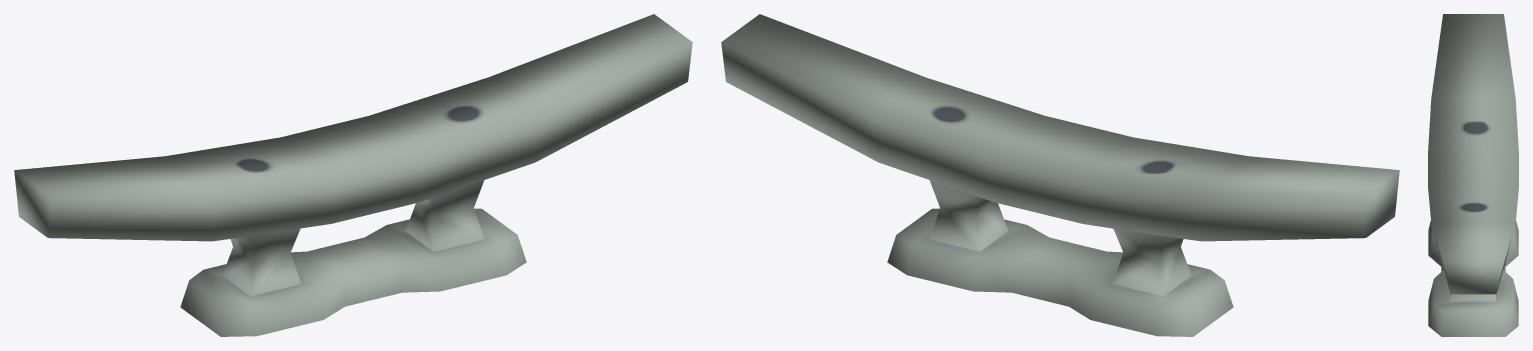
File: dockcleat.FBX
3 views of the same model, side by side, from view 1: azimuth 30°, elevation 25°; view 2: azimuth 150°, elevation 25°; view 3: azimuth 270°, elevation 25° (orthographic). The views are drawn at different scales.
Visible parts, largest first — view 1: cleat; view 2: cleat; view 3: cleat.
Boxes of the visible parts, x1,y1,x2,y2 form: cleat: [14, 14, 692, 336]; cleat: [721, 14, 1399, 336]; cleat: [1428, 14, 1518, 336].
Size of the model in its own units: 38.29 by 10.21 by 5.98.
Materials: 1 (1 with a texture image).
